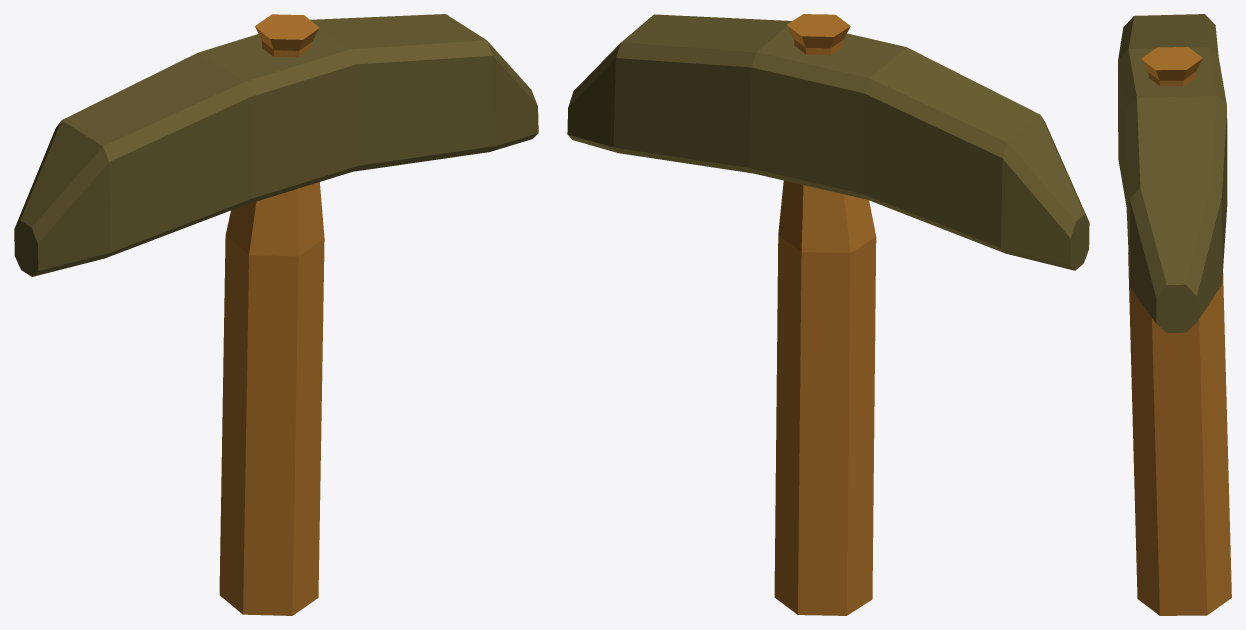
File: Gold Pickaxe.fbx
The picture shows the model from 3 angles, left to right: view 1: azimuth 30°, elevation 25°; view 2: azimuth 150°, elevation 25°; view 3: azimuth 270°, elevation 25°; orthographic projection. The views are drawn at different scales.
Visible parts, largest first — view 1: pickaxe.004; view 2: pickaxe.004; view 3: pickaxe.004.
Part boxes in pixels (x1,y1,x2,y2): pickaxe.004: (14, 14, 538, 615); pickaxe.004: (567, 14, 1089, 615); pickaxe.004: (1118, 14, 1231, 615).
Size of the model in its own units: 0.4223 by 0.4562 by 0.0861.
